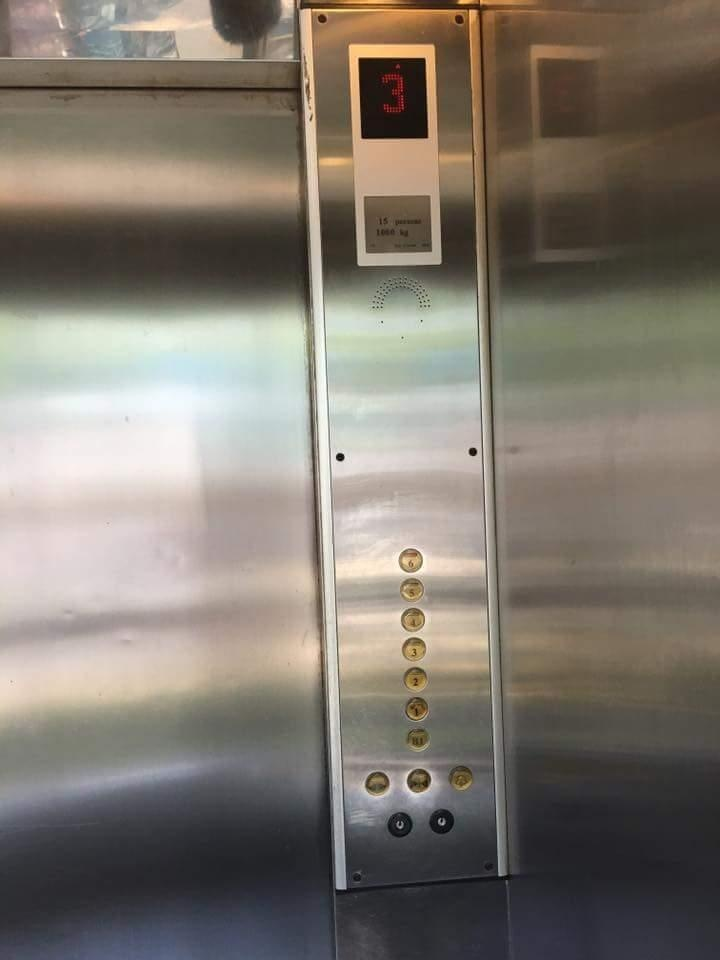1: (402, 694, 429, 721)
2: (401, 665, 428, 692)
3: (400, 635, 427, 662)
4: (399, 605, 426, 632)
5: (397, 575, 424, 602)
6: (396, 546, 423, 573)
alarm: (446, 763, 473, 790)
blur: (403, 725, 430, 752)
close: (404, 766, 431, 793)
keyhole: (427, 807, 454, 834), (385, 810, 412, 837)
led: (353, 50, 432, 146)
open: (363, 769, 390, 796)
